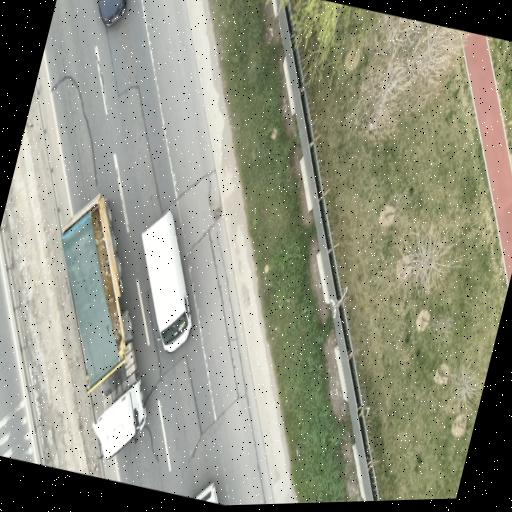car: (142, 211, 191, 351), (98, 0, 126, 25), (195, 483, 218, 503)
truck: (62, 195, 146, 458)
